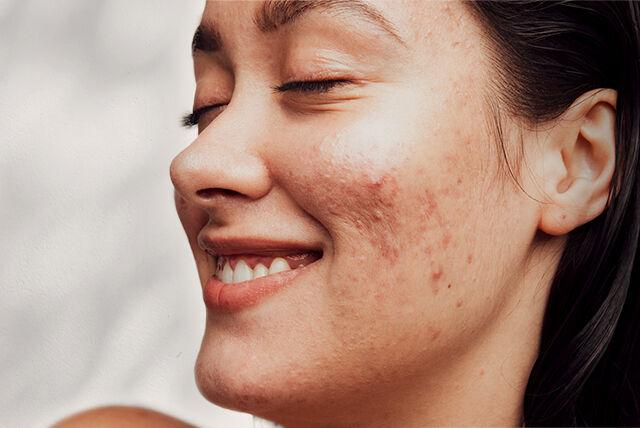Acne: (304, 7, 488, 341)
Oily-Skin: (263, 110, 384, 172)
